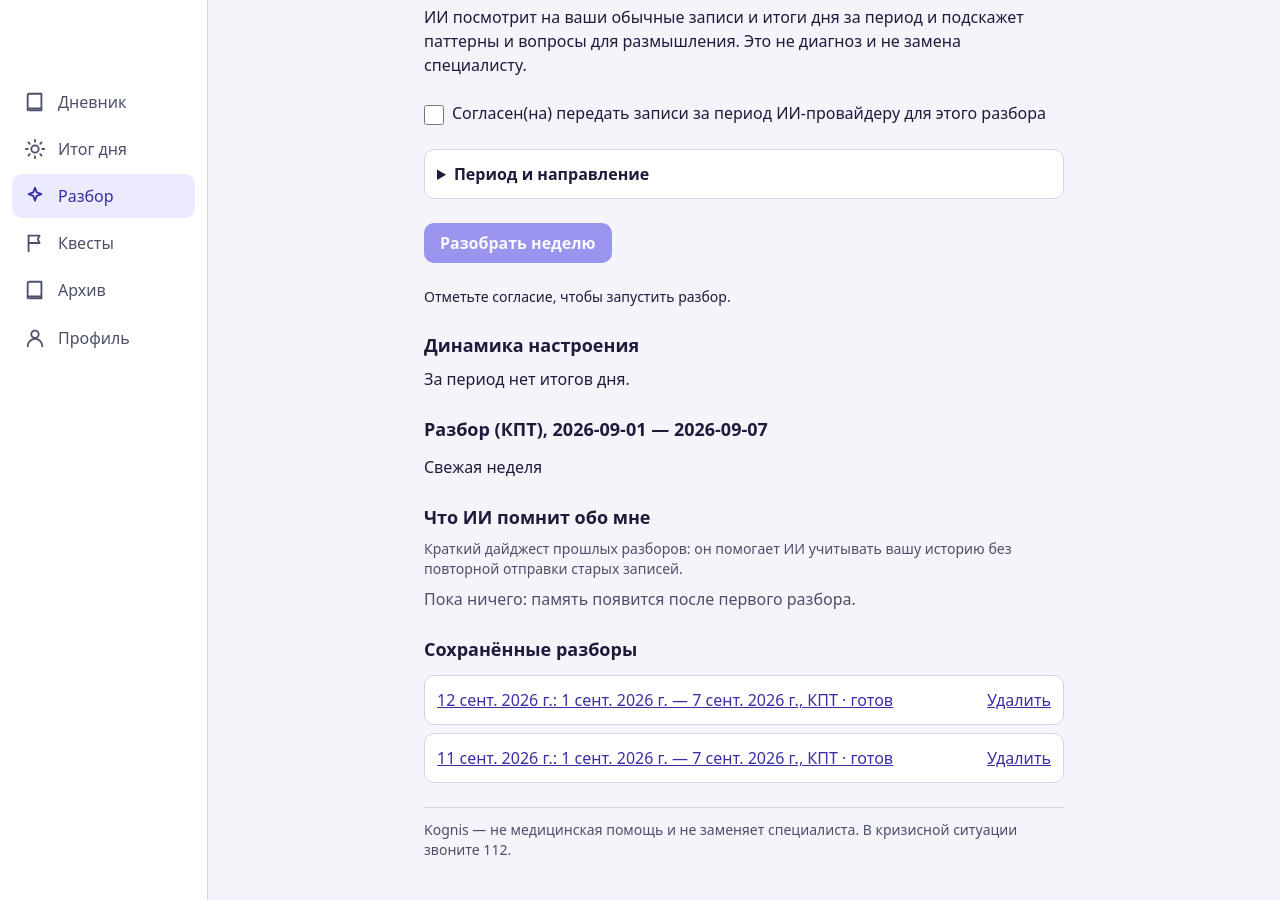
удаление: подтверждение, DELETE, разбор пропадает, открывается предыдущий
The image size is (1280, 900).
(page scrolled)
Expected: the text "Свежая неделя" is shown, x1=424 y1=456 x2=542 y2=478
Step 1. Click the button with aria-label "Удалить разбор" → point(1019, 700), box x1=987 y1=688 x2=1051 y2=712
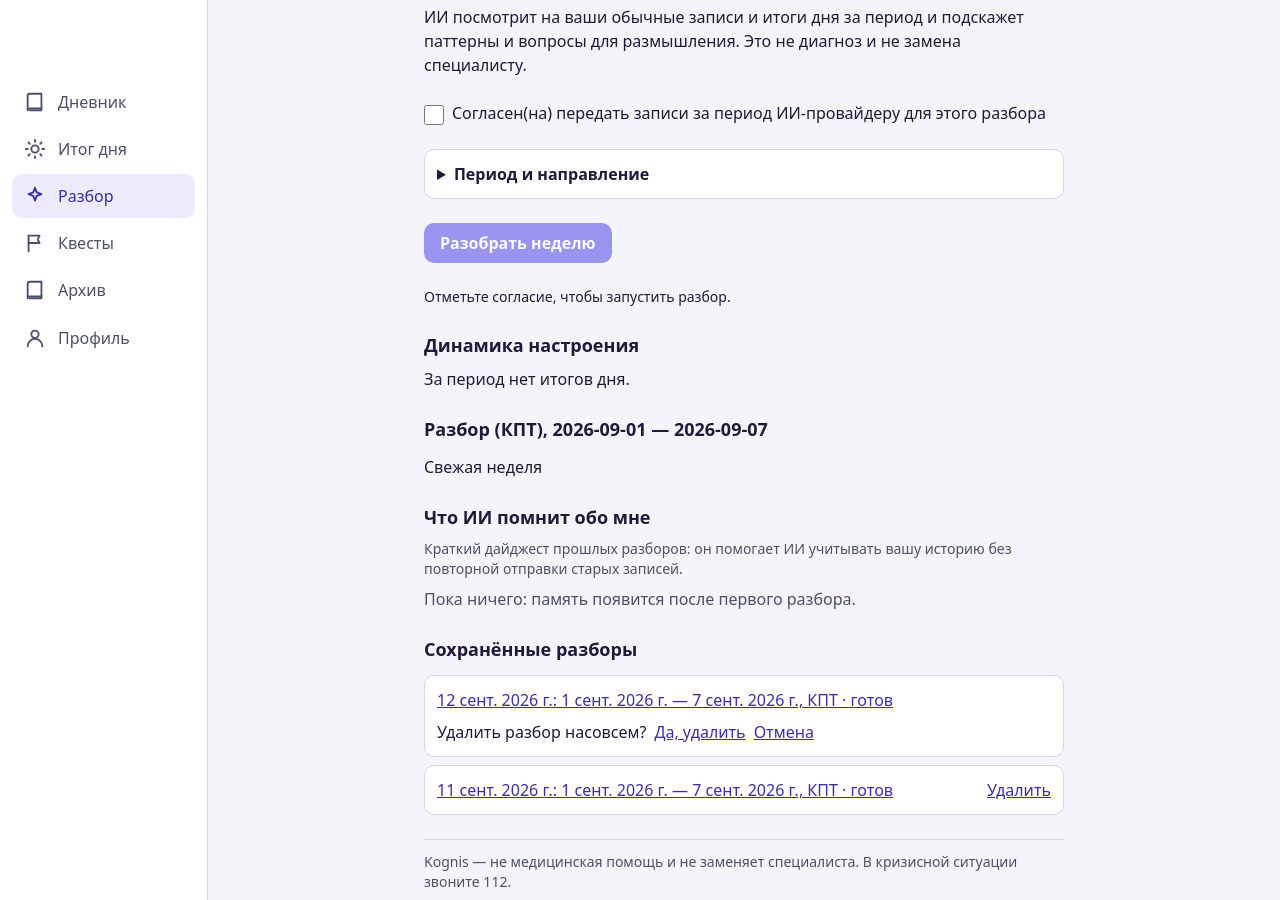
Step 2. Click the button "Да, удалить" → point(700, 732), box x1=654 y1=720 x2=746 y2=744
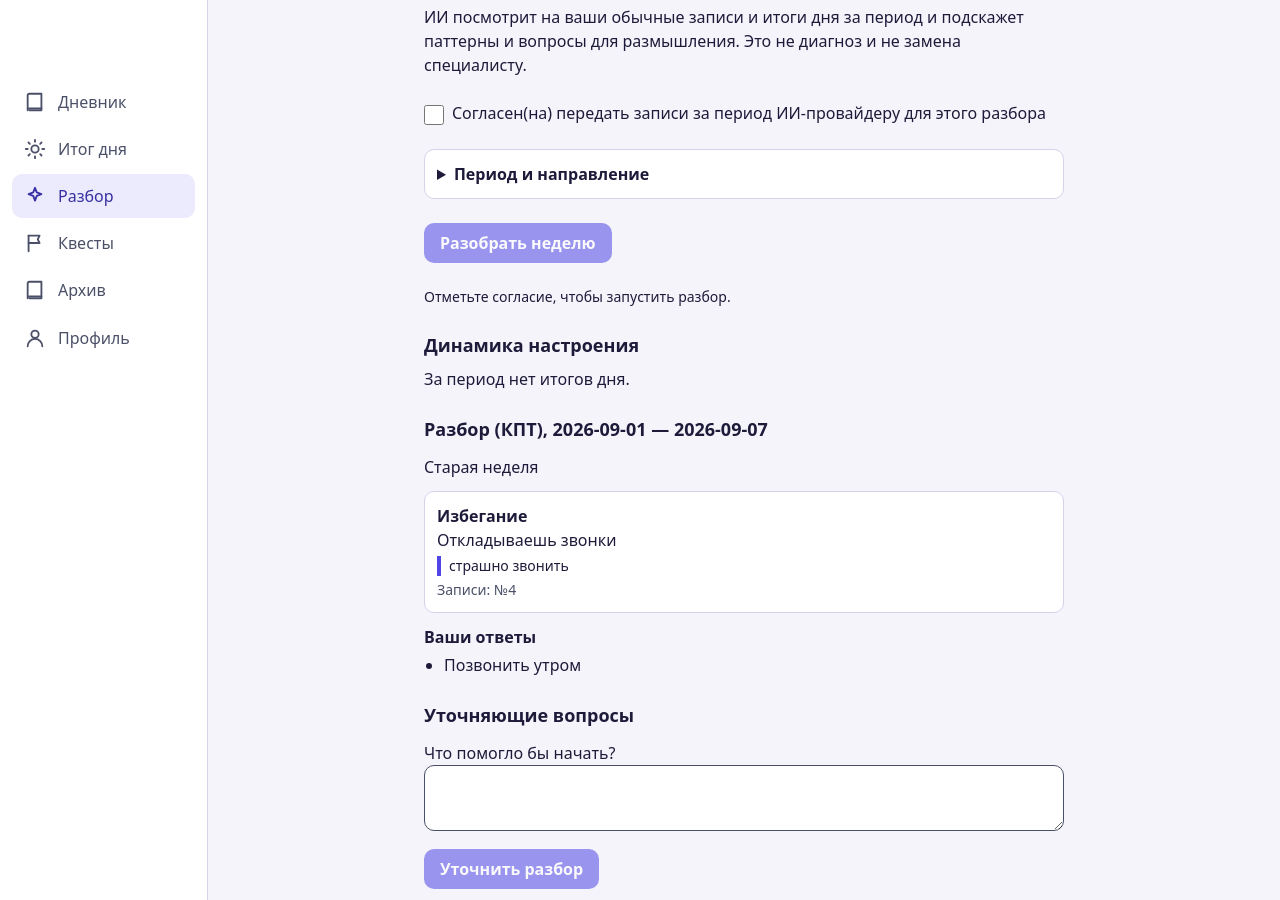
Now the element with test id "analysis-result" shows "Старая неделя", box x1=424 y1=456 x2=538 y2=478
